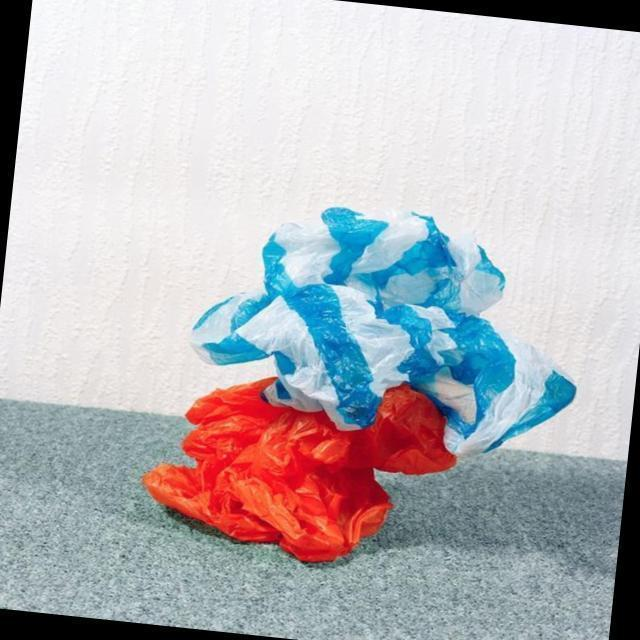Plastic_Bag: (170, 178, 523, 584)
